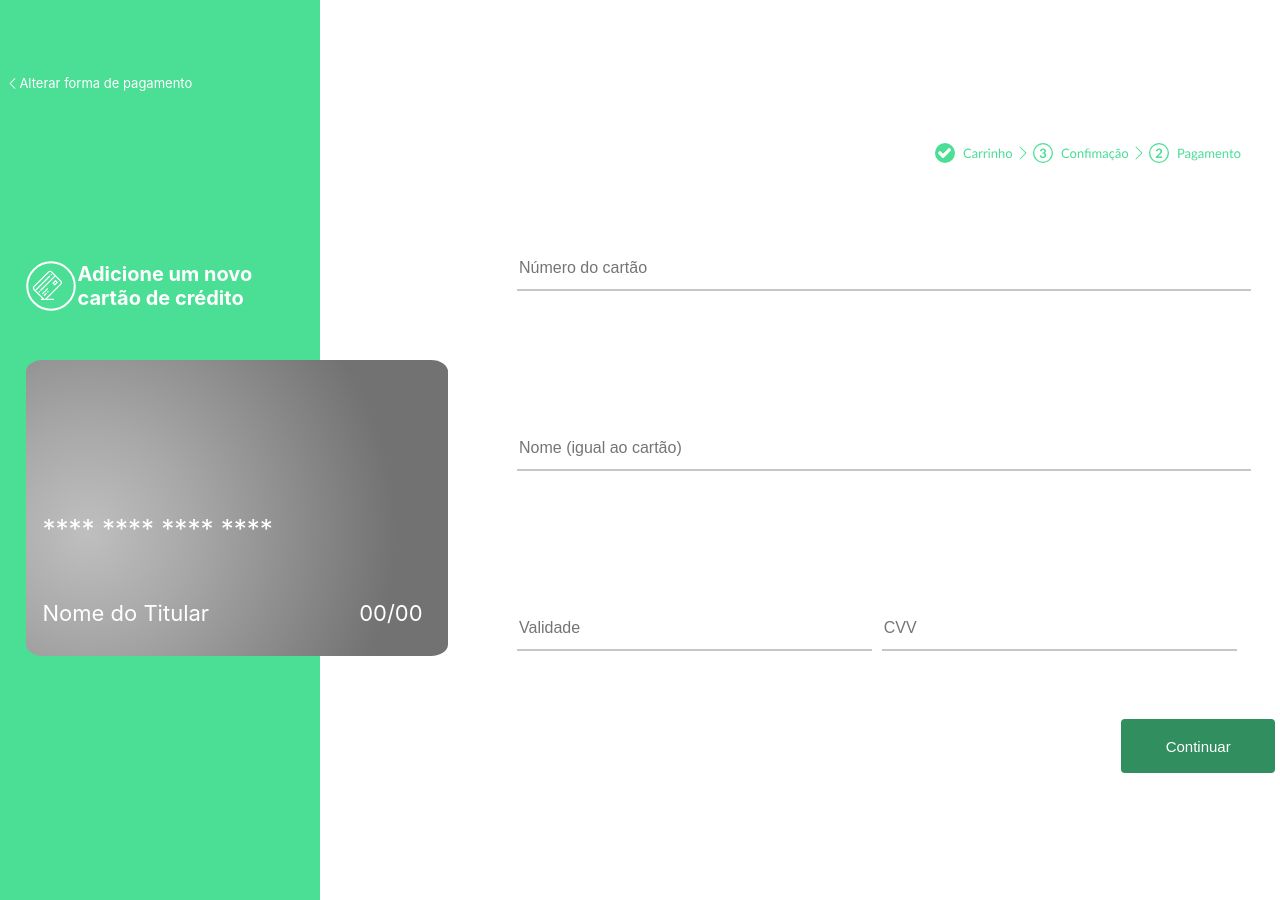
Test: TextInput › incorrect number card
Step 1. Type "4444555566667777" into the field with placeholder "Número do cartão" → {"x": 884, "y": 269}, box [517, 247, 1251, 291]
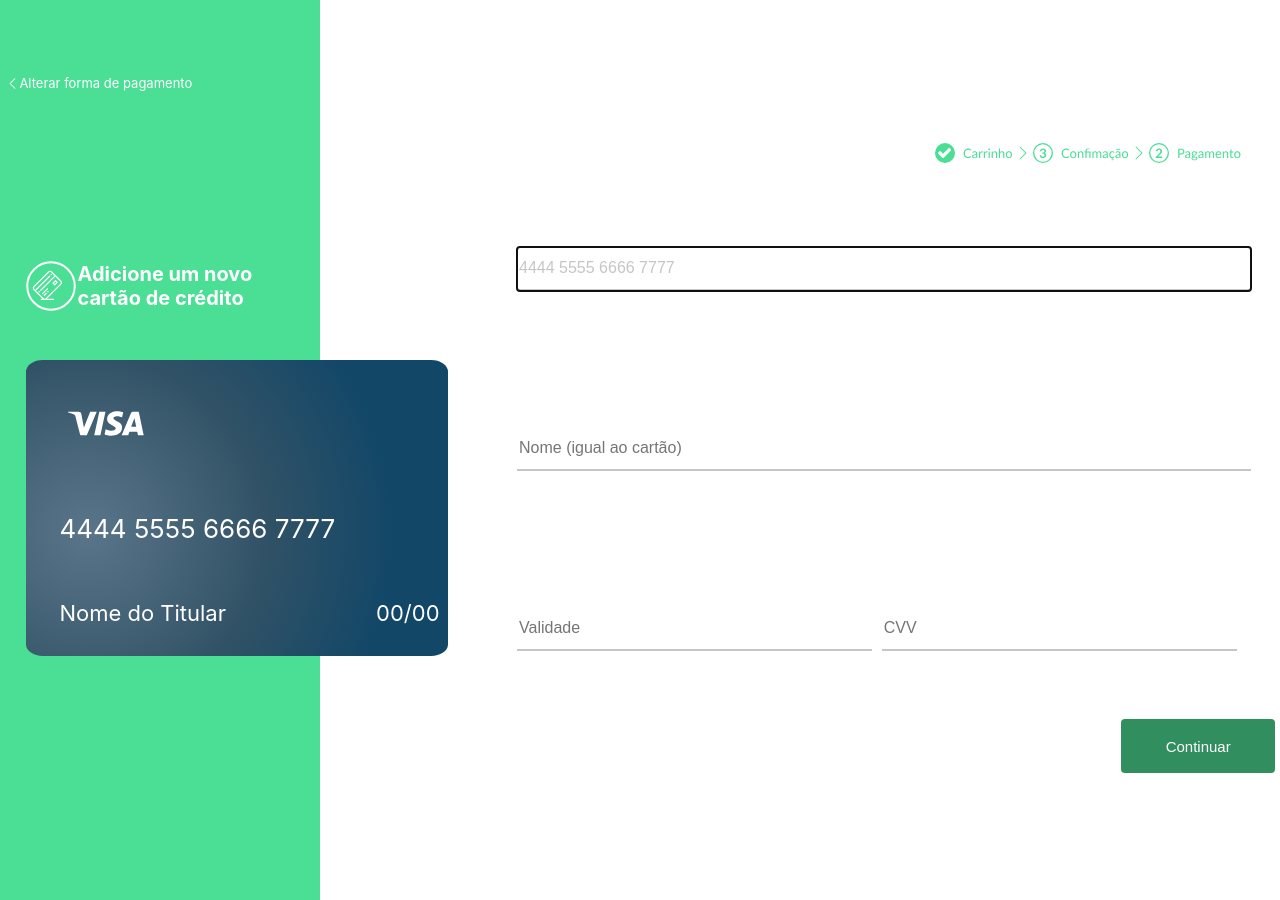
Expected: the field with placeholder "Número do cartão" does not hold "4444555566667777", [517, 247, 1251, 291]
